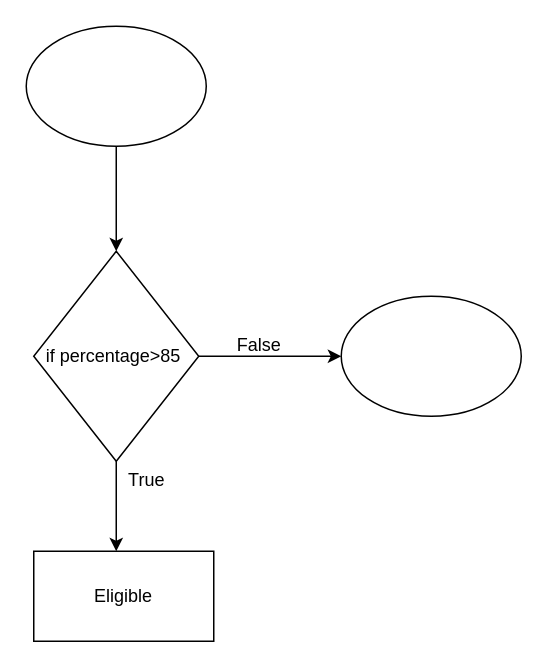
Image size: 548x668. Some labels were removed from this diagram. Here are the shapes that lost their labels. From the top down, the centre of each, then its label:
At pixel 115 85: "start".
At pixel 430 355: "Stop".
